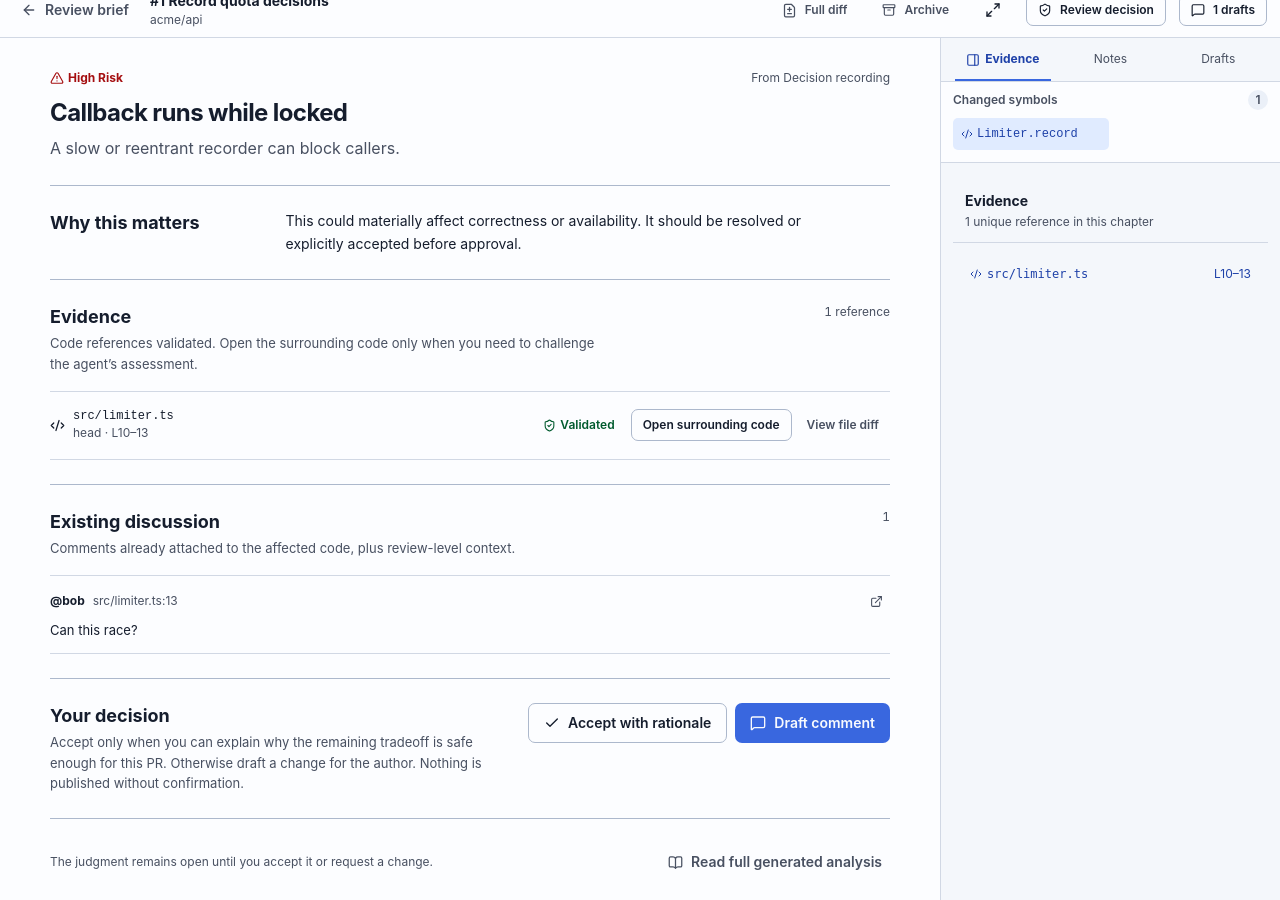
Scenario: Review brief and chapter reader › opens one focused agent finding while keeping analysis and full diff optional
(page scrolled)
Expected: the element named "Agent judgment: Callback runs while locked" shows "From Decision recording", [751, 70, 890, 85]
Expected: the element named "Agent judgment: Callback runs while locked" shows "Why this matters", [50, 212, 200, 233]
Step 1. Click the button "Read full generated analysis" → (775, 862), box [660, 843, 890, 881]
(page scrolled)
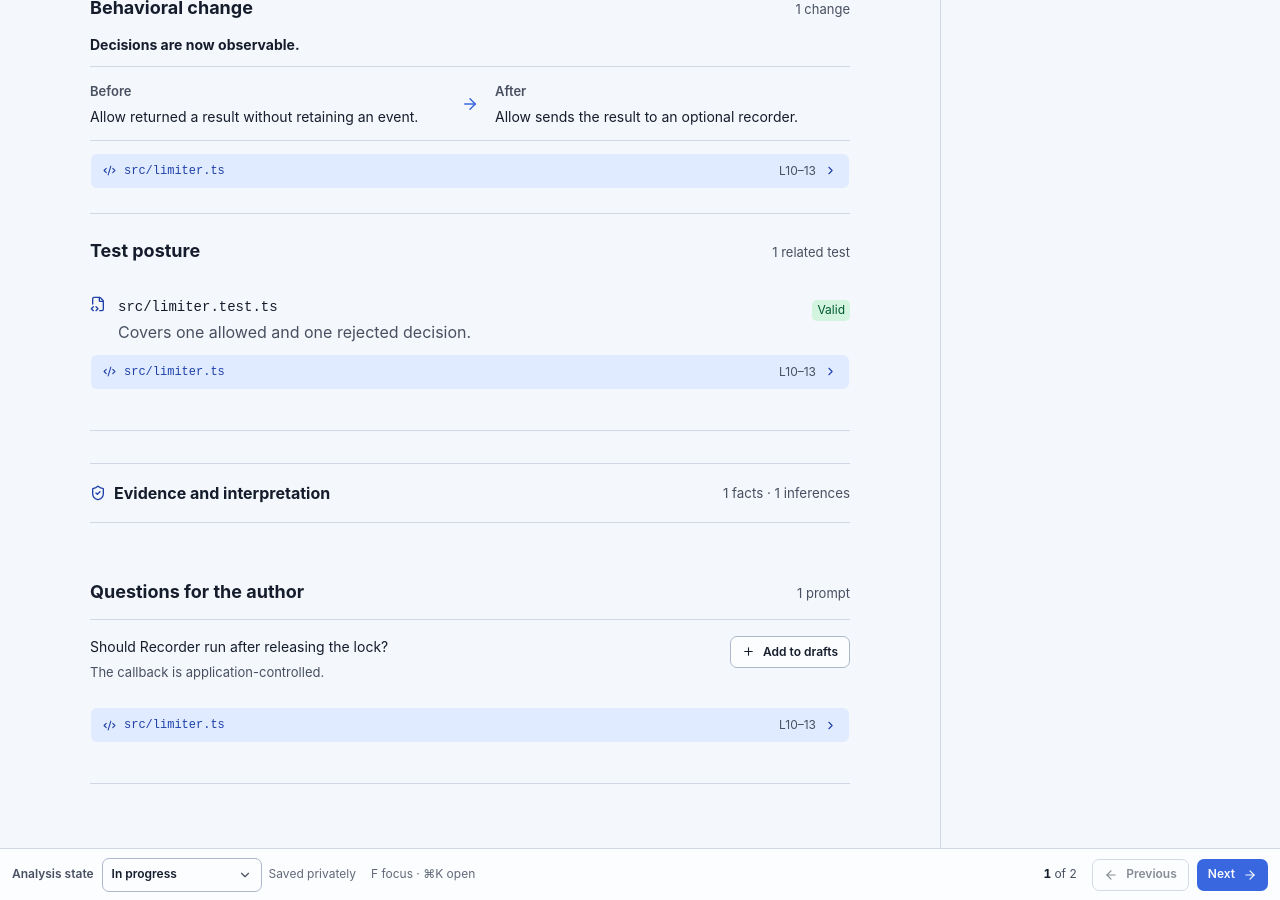
Now the element named "Chapter 1: Decision recording" shows "Behavioral change", box [90, 0, 253, 18]
Now the element named "Chapter 1: Decision recording" shows "Allow returned a result without retaining an event.", box [90, 108, 418, 124]
Now the element named "Chapter 1: Decision recording" shows "Test posture", box [90, 240, 200, 261]
Step 2. Click the dropdown named "Analysis progress" → (182, 875), box [102, 858, 262, 892]
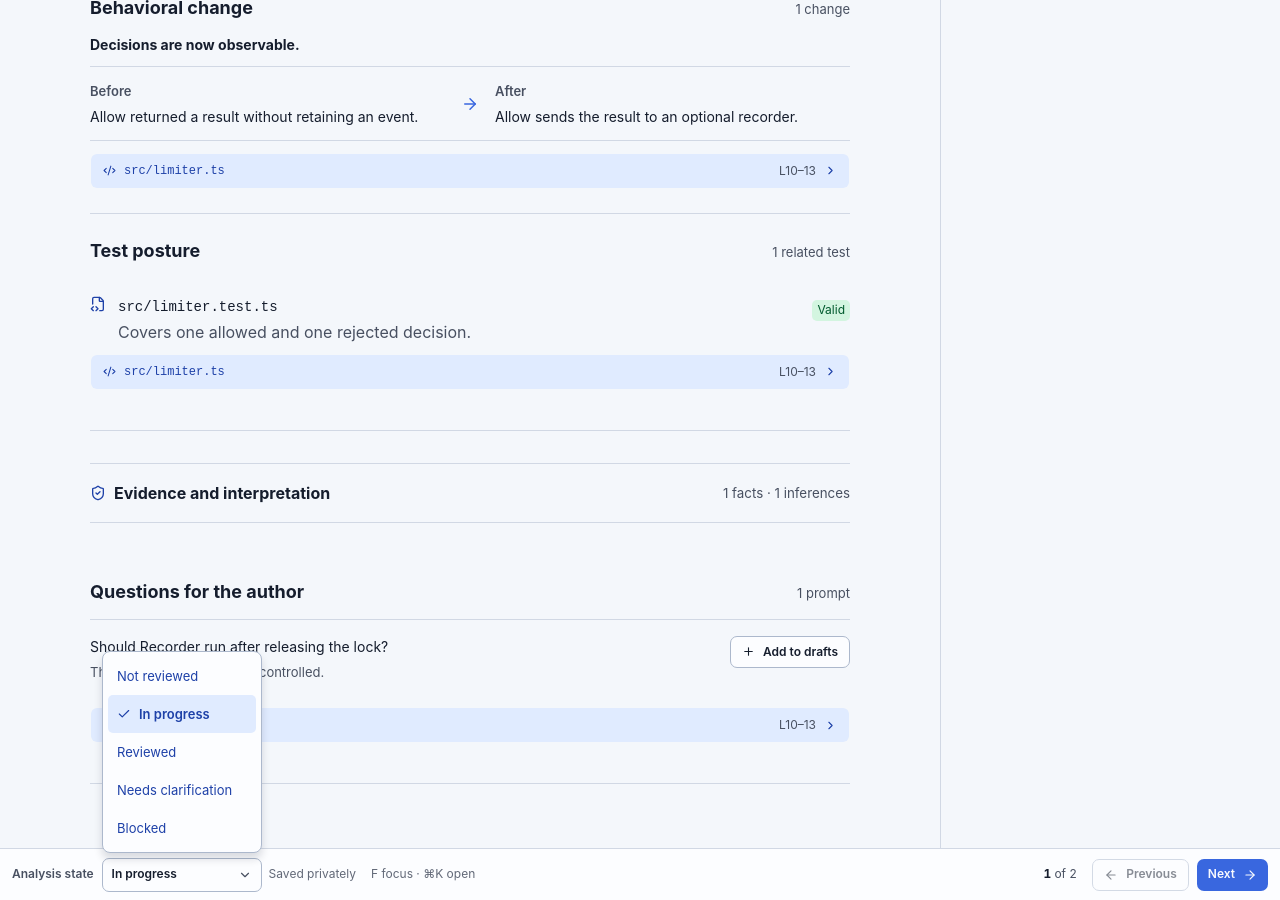
Now the option "Not reviewed" is shown, box [117, 668, 198, 684]
Now the option "Needs clarification" is shown, box [117, 782, 232, 798]
Step 3. Press Escape in the dropdown named "Analysis progress", box [102, 858, 262, 892]
(page scrolled)
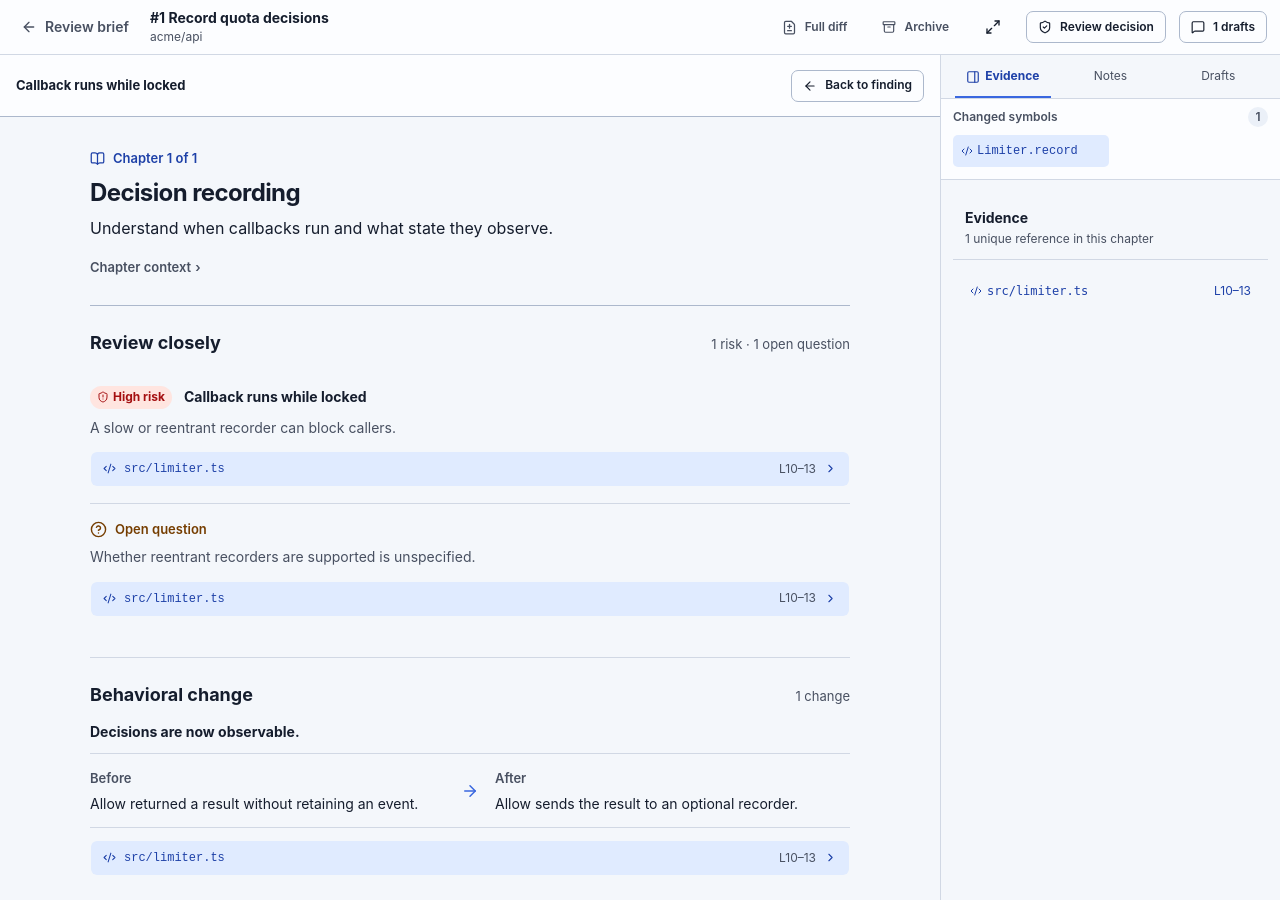
Now the header named "Open full diff" is shown, box [0, 0, 1279, 55]
Step 4. Click the button with aria-label "Open full diff" → (815, 27), box [771, 11, 858, 43]
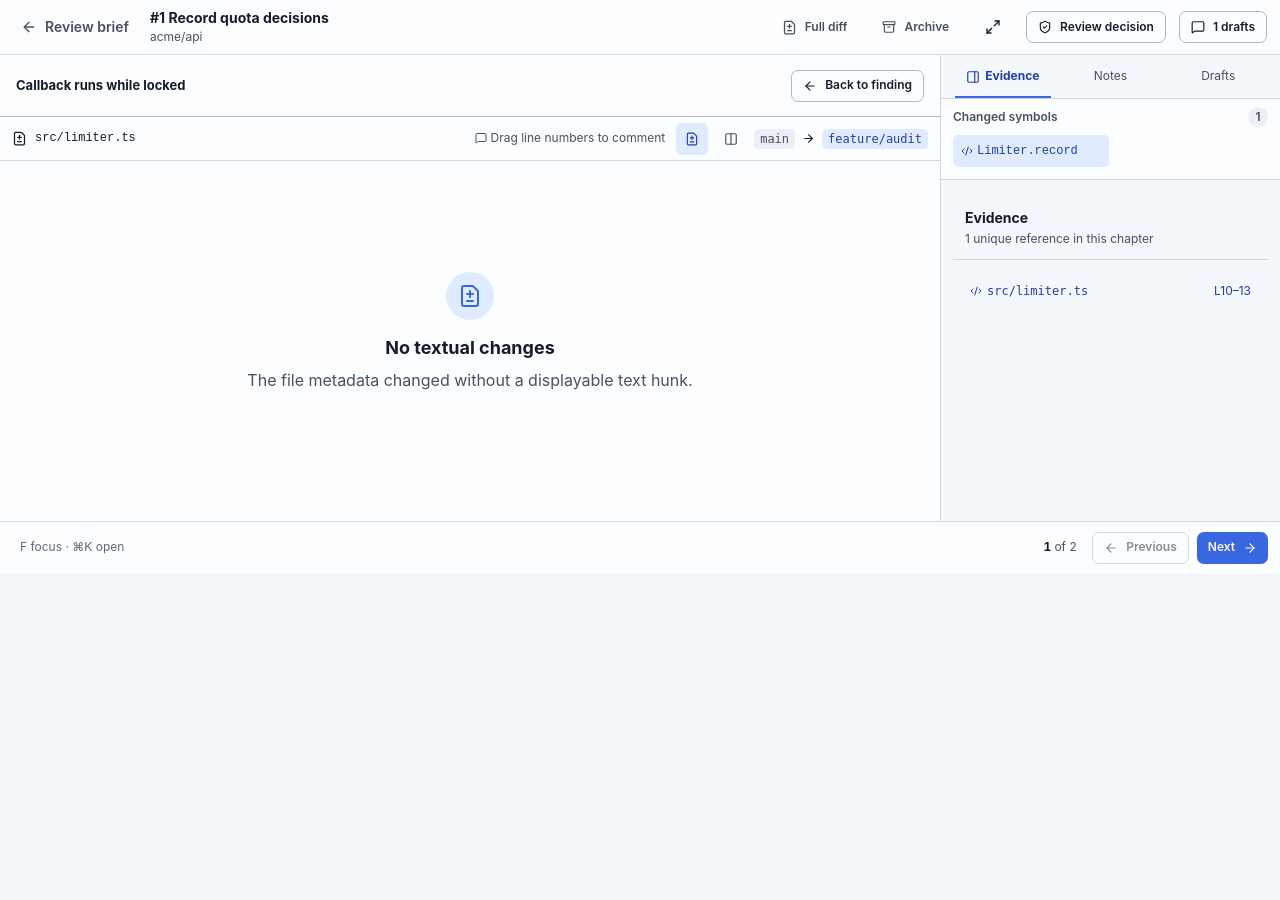
Now the button "Back to finding" is shown, box [791, 70, 924, 102]
Step 5. Click the button named "Split diff" → (731, 138), box [715, 122, 747, 154]
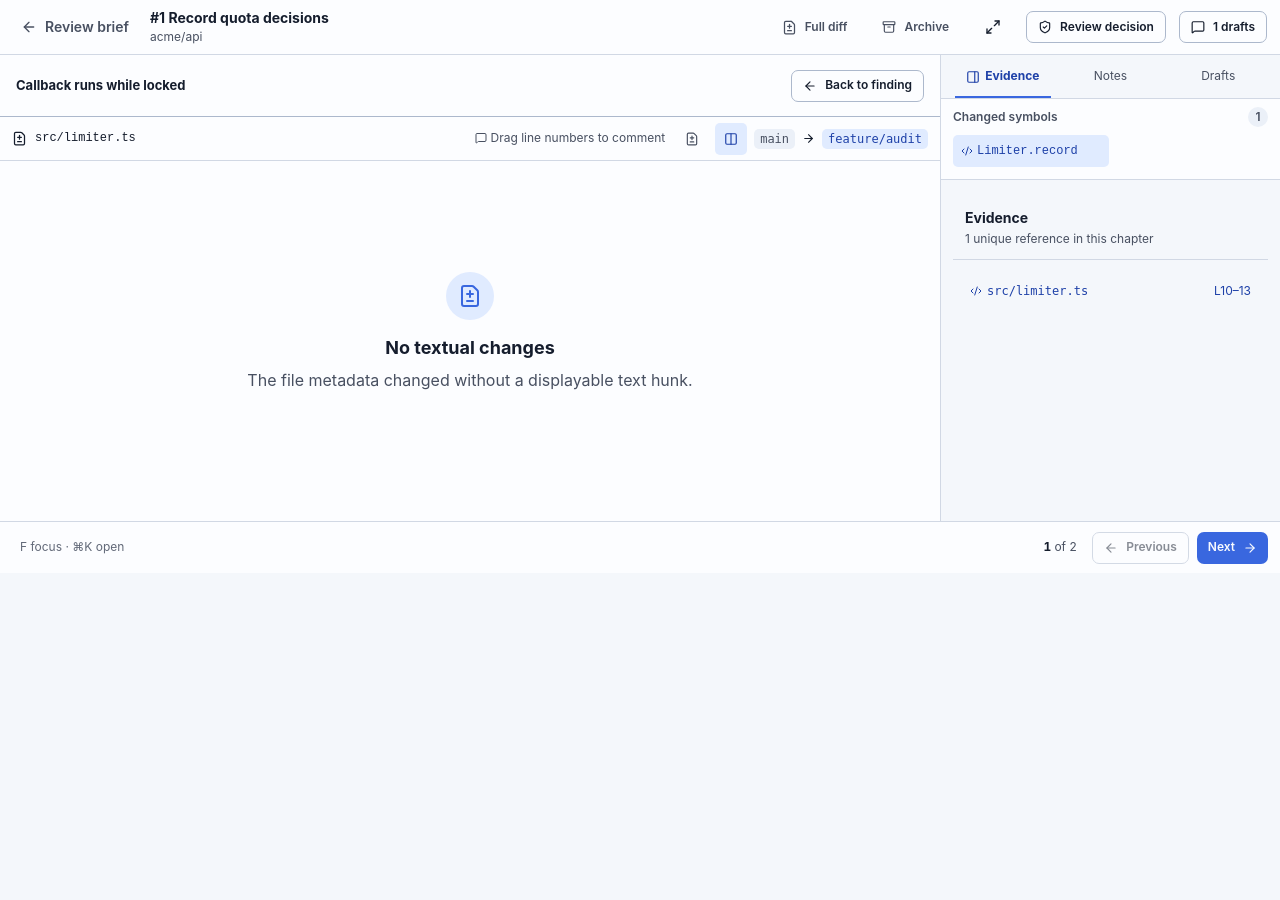
Now the heading "No textual changes" is shown, box [385, 335, 555, 360]
Step 6. Click the button "Back to finding" → (858, 86), box [791, 70, 924, 102]
(page scrolled)
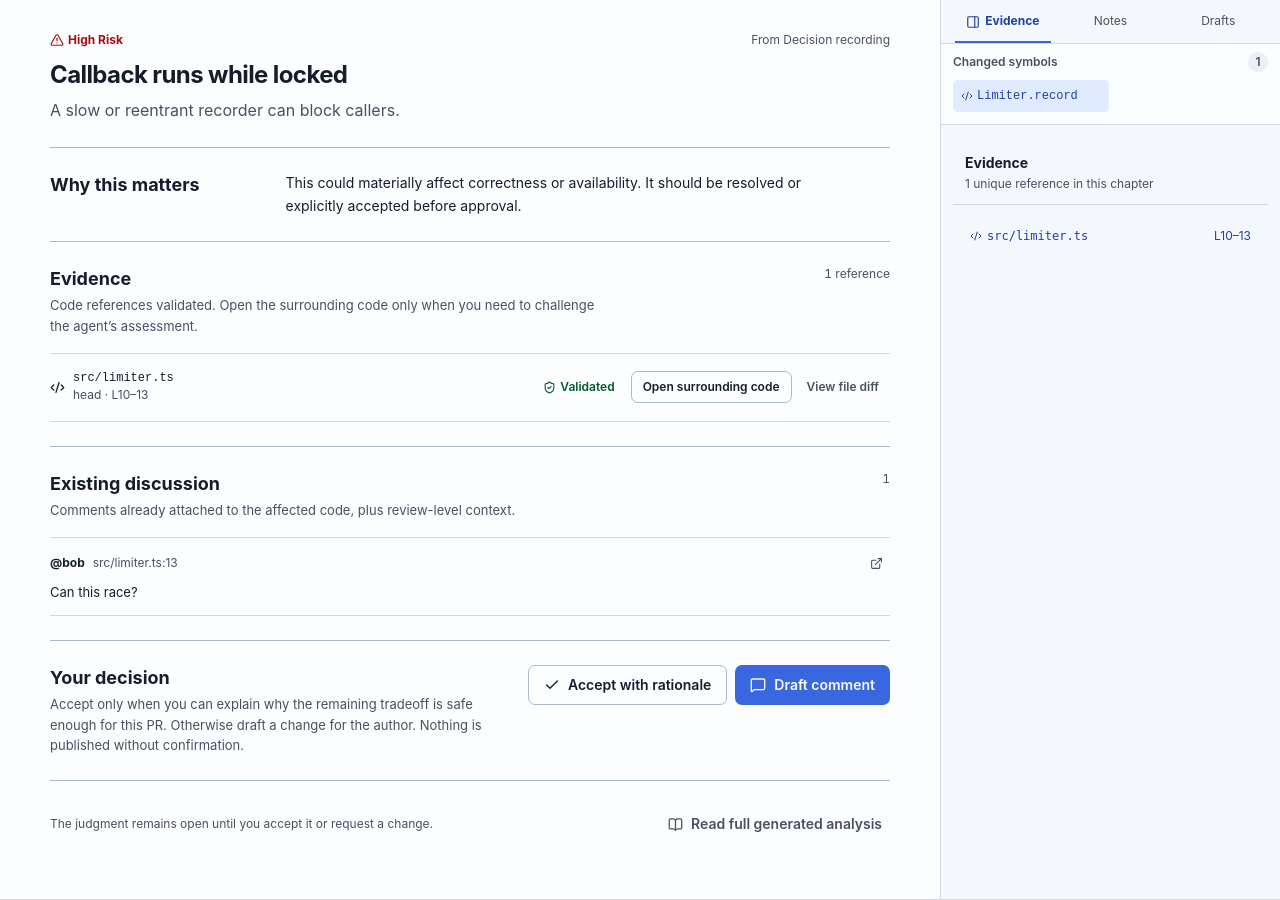
Now the element named "Agent judgment: Callback runs while locked" is shown
